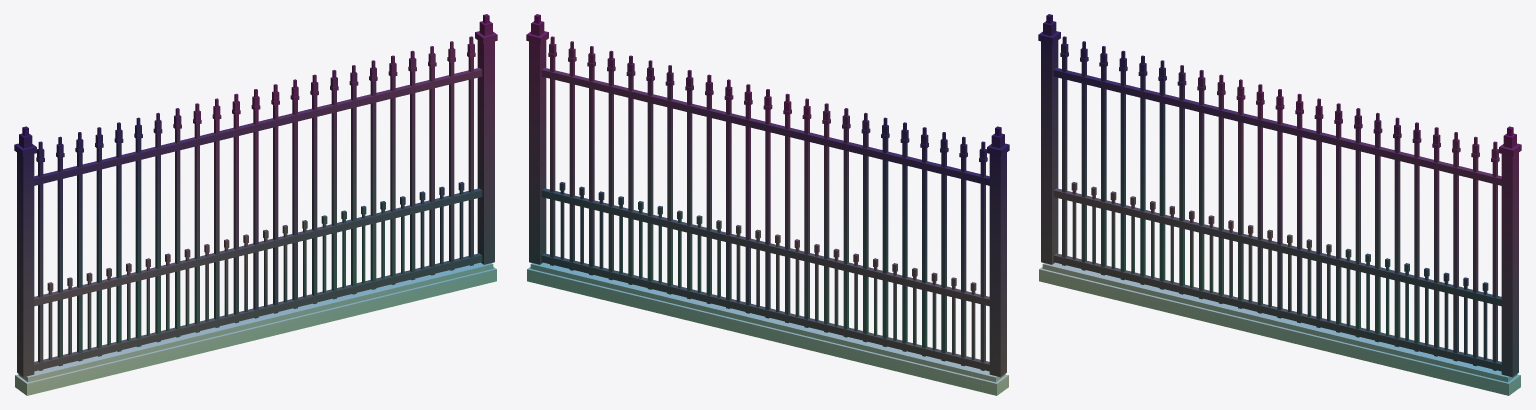
The model's file is fence_iron_4m.glb.
3 renders of one model, left to right at view 1: azimuth 30°, elevation 25°; view 2: azimuth 150°, elevation 25°; view 3: azimuth 330°, elevation 25°, orthographic.
Parts seen in each view (by area): view 1: fence_iron_4m, fence_curb; view 2: fence_iron_4m, fence_curb; view 3: fence_iron_4m, fence_curb.
Part boxes in pixels (bbox=[...]): fence_iron_4m: bbox=[14, 14, 497, 377]; fence_curb: bbox=[15, 262, 496, 395]; fence_iron_4m: bbox=[526, 14, 1009, 377]; fence_curb: bbox=[527, 262, 1008, 395]; fence_iron_4m: bbox=[1038, 14, 1521, 377]; fence_curb: bbox=[1039, 262, 1520, 395].
Bounding box in the file's own units: 4.12 × 2.18 × 0.18.
